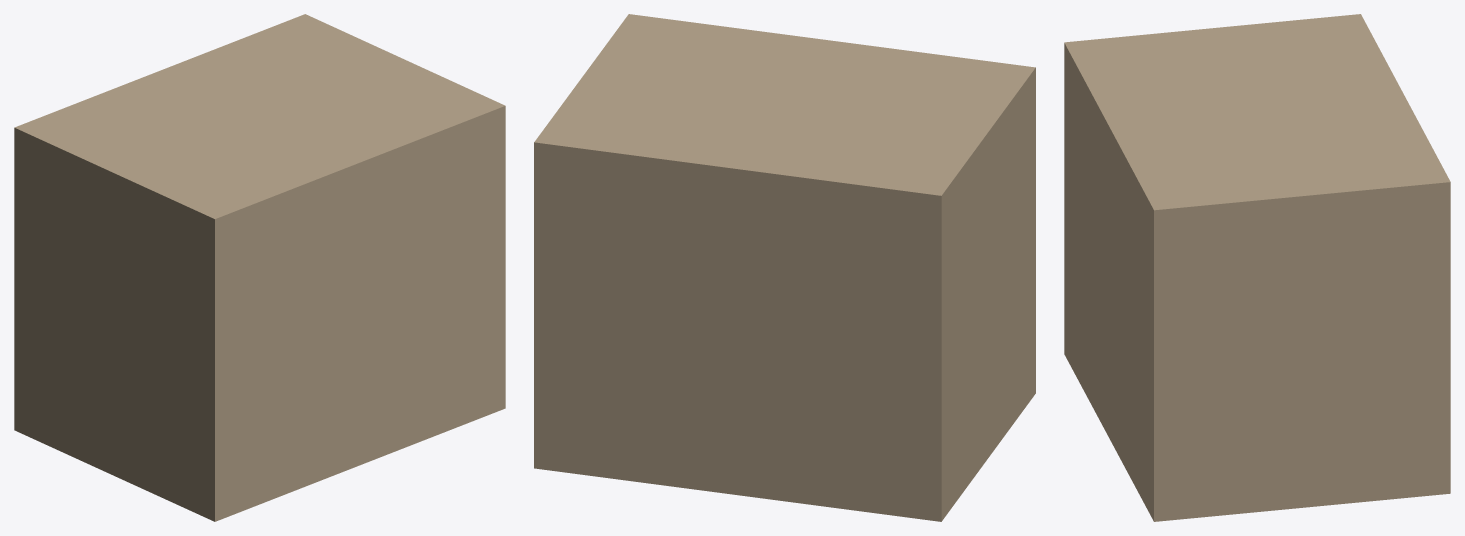
File: bld_107639125.dae
The picture shows the model from 3 angles, left to right: view 1: azimuth 30°, elevation 25°; view 2: azimuth 150°, elevation 25°; view 3: azimuth 270°, elevation 25°; orthographic projection. The views are drawn at different scales.
Visible parts, largest first — view 1: bld_107639125; view 2: bld_107639125; view 3: bld_107639125.
Part boxes in pixels (left/top/right/bottom): bld_107639125: left=14, top=14, right=505, bottom=521; bld_107639125: left=534, top=14, right=1035, bottom=521; bld_107639125: left=1064, top=14, right=1450, bottom=521.
Bounding box in the file's own units: 10.81 × 8.99 × 8.
